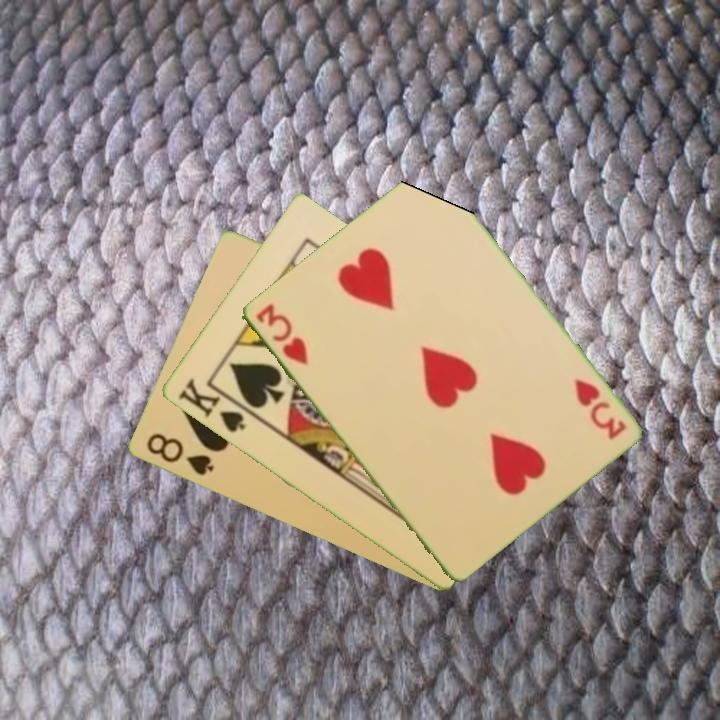3h: (251, 299, 311, 368), (570, 375, 629, 443)
8s: (142, 429, 217, 479)
Ks: (174, 374, 255, 436)
